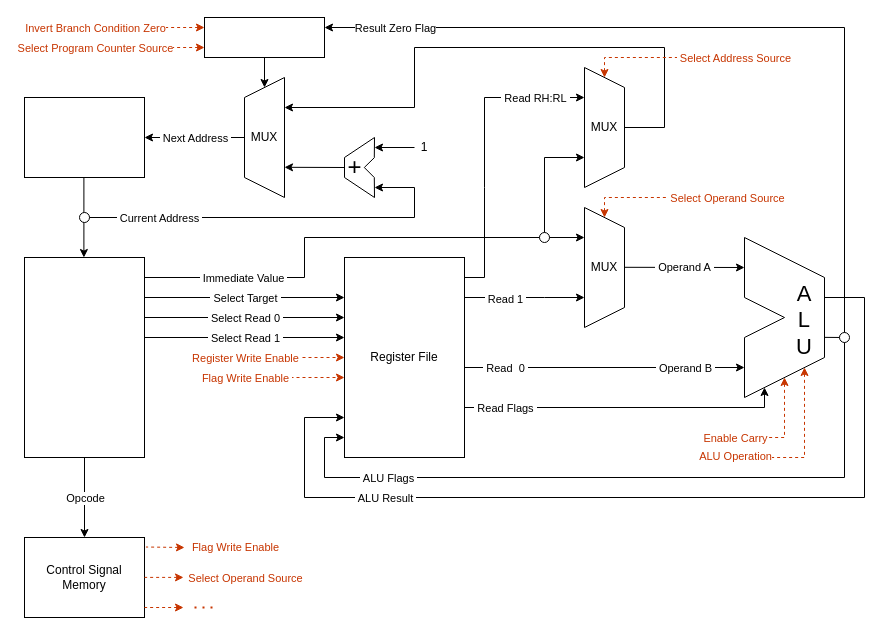
Image size: 890x635. Some labels were removed from this diagram. The shapes that lost their labels are listed below. From the top down, each one's centre as x and y in pixels, then its label:
At point (264, 37): "Branching logic".
At point (84, 137): "Program Counter".
At point (84, 357): "Program Memory".
